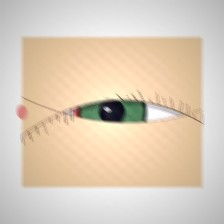hemorrhage_spot: (61, 77, 156, 153)
